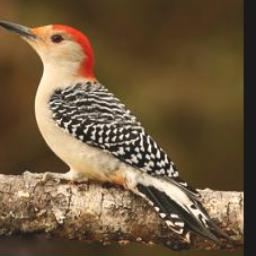Woodpecker: (0, 20, 239, 251)
